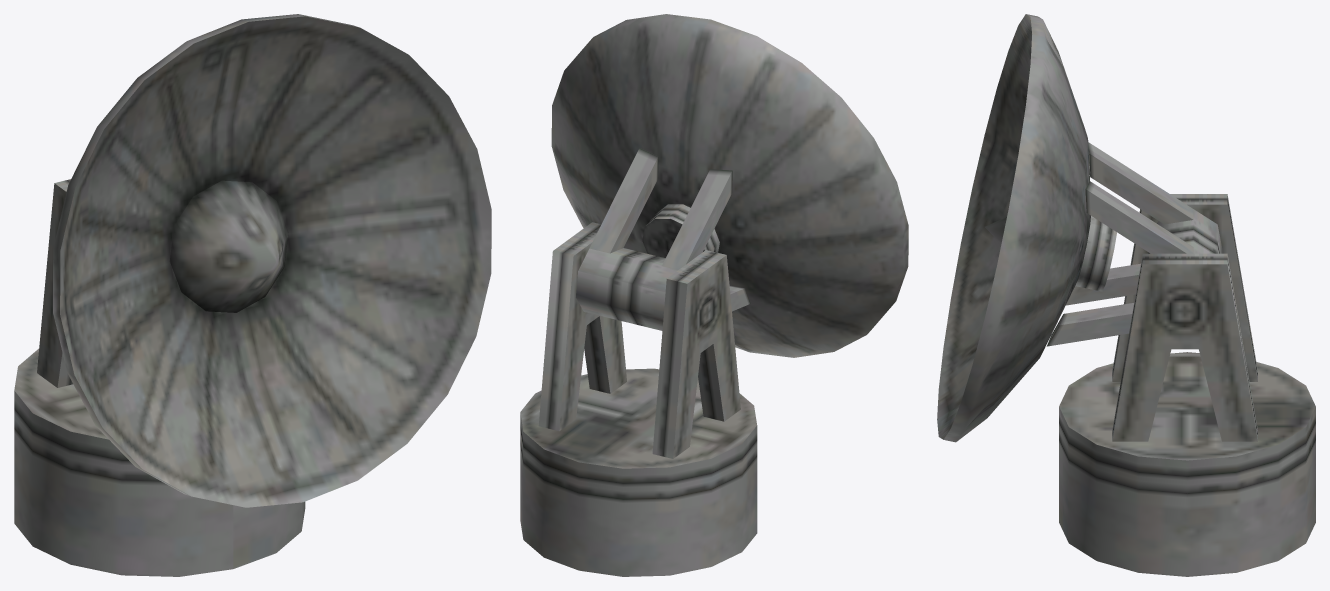
Rendered from ykl37r_radar_s01_l1.fbx.
The picture shows the model from 3 angles, left to right: view 1: azimuth 30°, elevation 25°; view 2: azimuth 150°, elevation 25°; view 3: azimuth 270°, elevation 25°; orthographic projection. The views are drawn at different scales.
Parts seen in each view (by area): view 1: mesh_node; view 2: mesh_node; view 3: mesh_node.
Part boxes in pixels (bbox=[...]): mesh_node: bbox=[14, 14, 491, 576]; mesh_node: bbox=[520, 14, 908, 576]; mesh_node: bbox=[937, 14, 1315, 576].
Bounding box in the file's own units: 3.01 × 3.73 × 2.62.
Materials: 1 (1 with a texture image).
